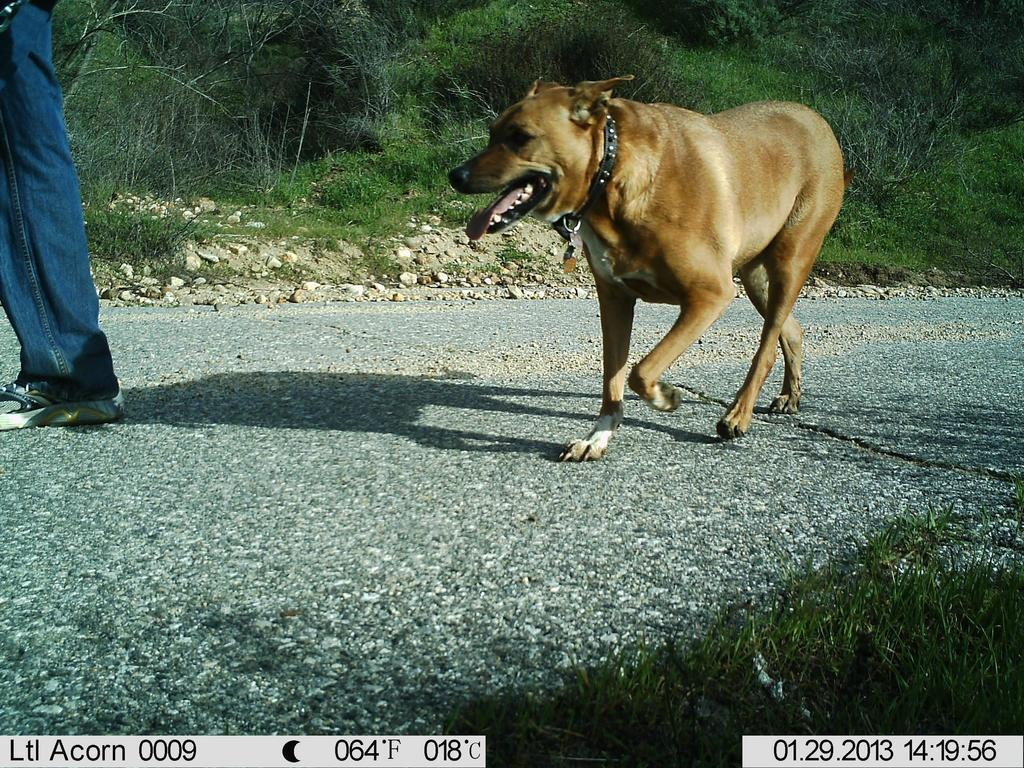dog: (449, 63, 865, 473)
